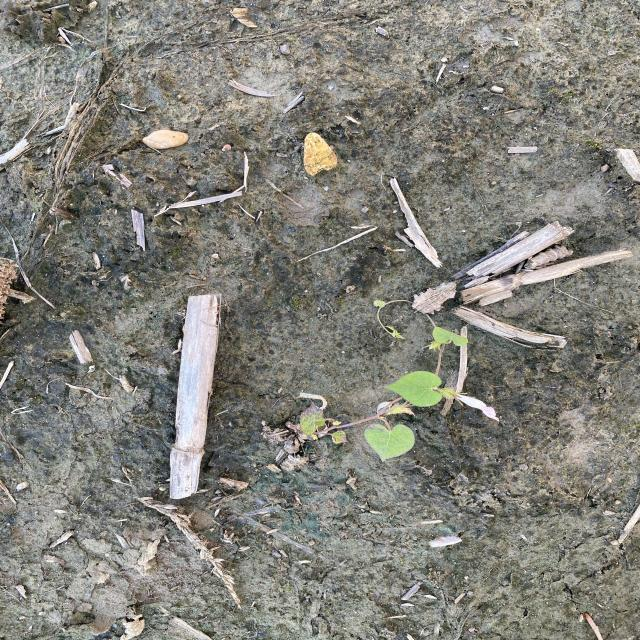MorningGlory: (300, 299, 470, 464)
